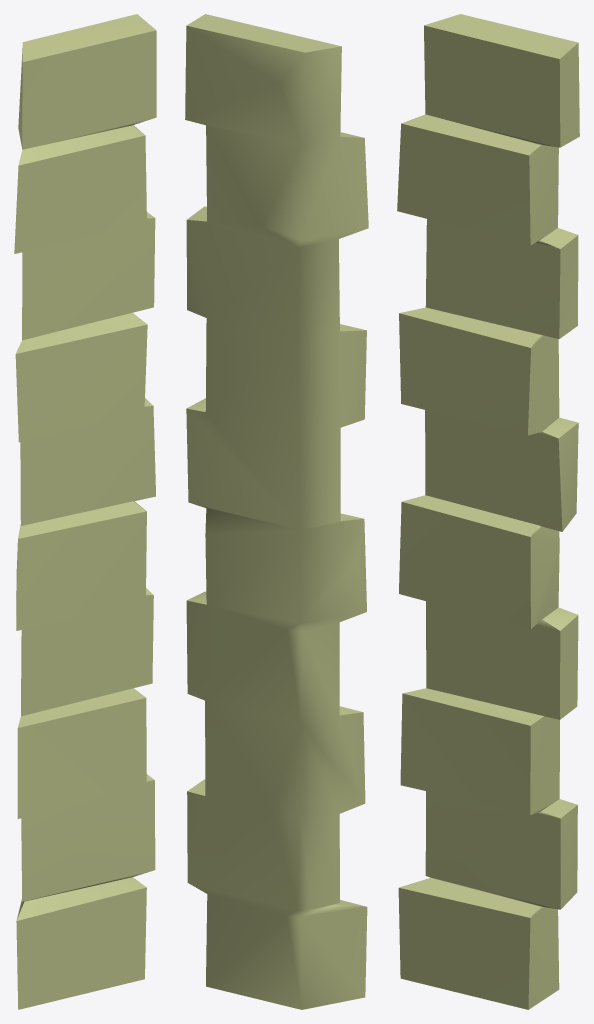
The model's file is stone_element_32b.fbx.
3 renders of one model, left to right at view 1: azimuth 30°, elevation 25°; view 2: azimuth 150°, elevation 25°; view 3: azimuth 330°, elevation 25°, orthographic.
Visible parts, largest first — view 1: stone_element_32b_LOD1; view 2: stone_element_32b_LOD1; view 3: stone_element_32b_LOD1.
Part boxes in pixels (bbox=[...]): stone_element_32b_LOD1: bbox=[14, 14, 156, 1009]; stone_element_32b_LOD1: bbox=[185, 14, 368, 1009]; stone_element_32b_LOD1: bbox=[397, 14, 579, 1009].
Bounding box in the file's own units: 92.01 × 542 × 31.27.
